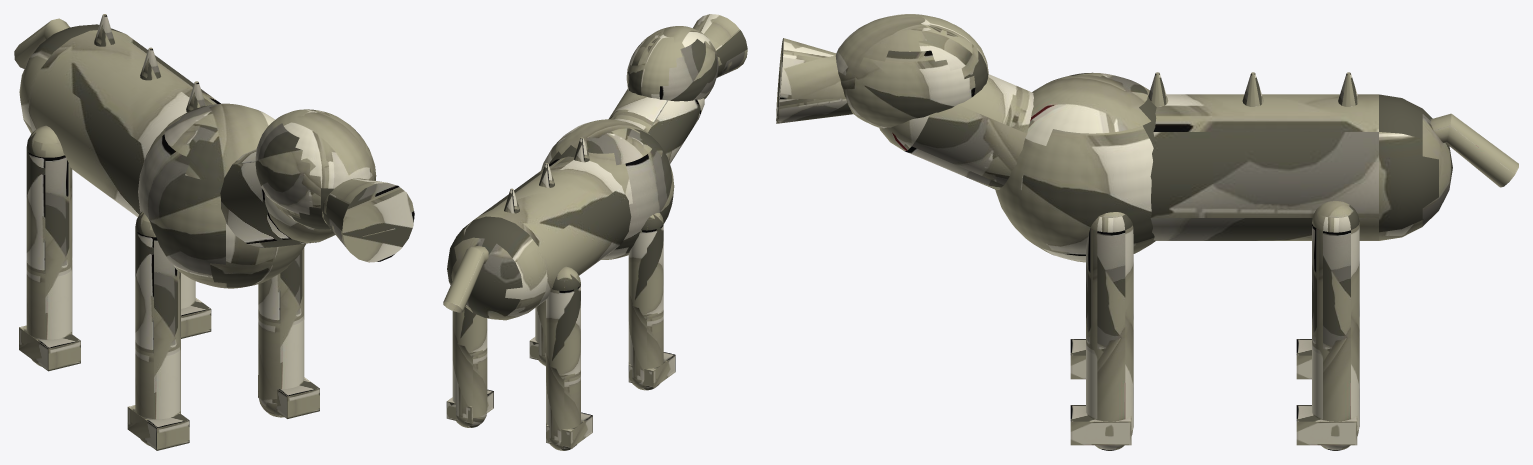
File: MN_hound.glb
3 views of the same model, side by side, from view 1: azimuth 30°, elevation 25°; view 2: azimuth 150°, elevation 25°; view 3: azimuth 270°, elevation 25° (orthographic). The views are drawn at different scales.
Visible parts, largest first — view 1: MN_hound; view 2: MN_hound; view 3: MN_hound.
Boxes of the visible parts, left/top/right/bottom form: MN_hound: left=14, top=14, right=414, bottom=450; MN_hound: left=443, top=14, right=747, bottom=450; MN_hound: left=776, top=14, right=1518, bottom=450.
Size of the model in its own units: 0.45 by 1.01 by 1.71.
Materials: 1 (1 with a texture image).
